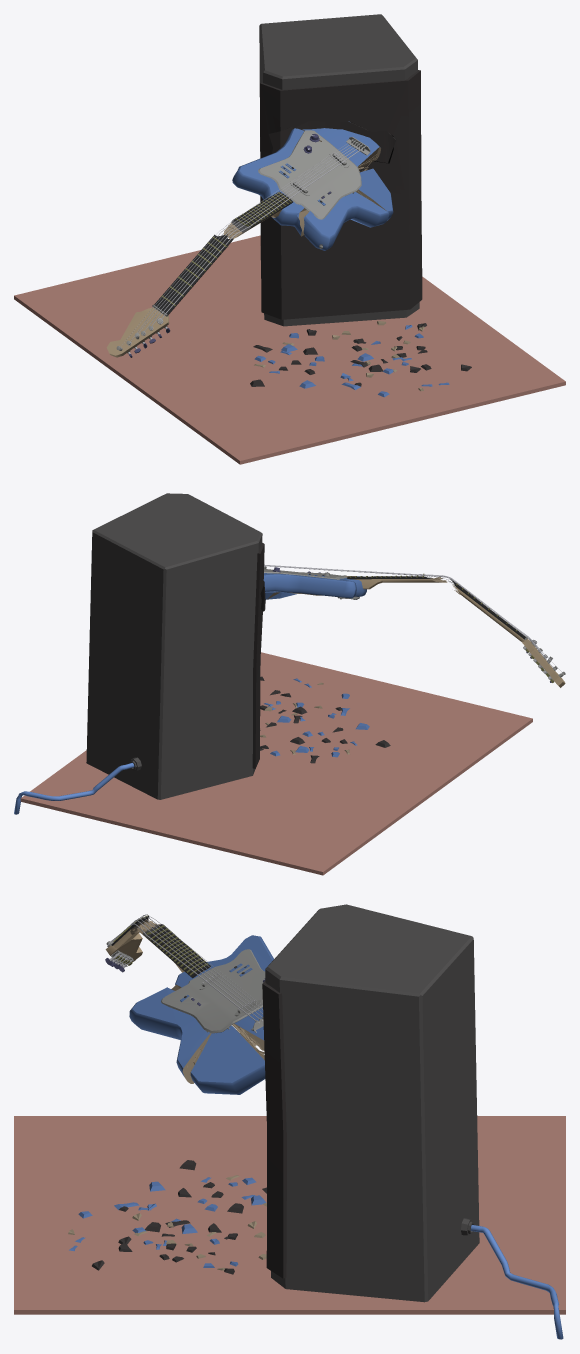
The model's file is broken guitar.fbx.
3 views of the same model, one above another, from view 1: azimuth 30°, elevation 25°; view 2: azimuth 150°, elevation 25°; view 3: azimuth 270°, elevation 25° (orthographic). The views are drawn at different scales.
Parts seen in each view (by area): view 1: pPlane1, pasted__polySurface20, pasted__polySurface18, pCube194, polySurface347, pCube423, polySurface566, polySurface524, pasted__polySurface14, polySurface534, polySurface404, polySurface567; view 2: pPlane1, pasted__polySurface18, polySurface347, pasted__polySurface20, pCube423, pasted__polySurface17, polySurface404, polySurface524; view 3: pasted__polySurface18, pPlane1, pasted__polySurface20, pCube194, polySurface567, pCube423, polySurface566, polySurface347, polySurface404, pasted__polySurface17.
Part boxes in pixels (box(x1,y1,x2,y2)): pPlane1: box(14, 235, 565, 464); pasted__polySurface20: box(260, 70, 422, 319); pasted__polySurface18: box(259, 14, 419, 326); pCube194: box(258, 130, 361, 219); polySurface347: box(232, 121, 380, 236); pCube423: box(250, 321, 471, 397); polySurface566: box(303, 192, 389, 250); polySurface524: box(154, 234, 233, 315); pasted__polySurface14: box(268, 121, 395, 162); polySurface534: box(106, 307, 169, 357); polySurface404: box(223, 191, 292, 238); polySurface567: box(356, 168, 393, 220); pPlane1: box(20, 652, 532, 875); pasted__polySurface18: box(86, 493, 262, 799); polySurface347: box(263, 573, 366, 598); pasted__polySurface20: box(252, 543, 264, 768); pCube423: box(260, 676, 390, 763); pasted__polySurface17: box(14, 762, 134, 814); polySurface404: box(347, 573, 447, 589); polySurface524: box(450, 579, 525, 641); pasted__polySurface18: box(265, 904, 479, 1302); pPlane1: box(14, 1116, 565, 1314); pasted__polySurface20: box(262, 981, 286, 1278); pCube194: box(161, 949, 265, 1033); polySurface567: box(190, 1025, 265, 1094); pCube423: box(68, 1160, 266, 1274); polySurface566: box(129, 987, 211, 1083); polySurface347: box(171, 935, 273, 1051); polySurface404: box(137, 920, 210, 978); pasted__polySurface17: box(470, 1225, 563, 1339).
Size of the model in its own units: 28.46 by 17.76 by 26.66.
